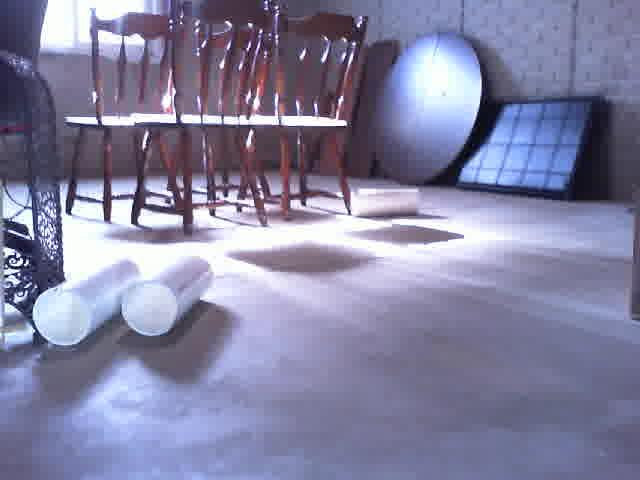coral: (30, 254, 141, 350), (120, 255, 215, 340), (347, 185, 426, 220)
